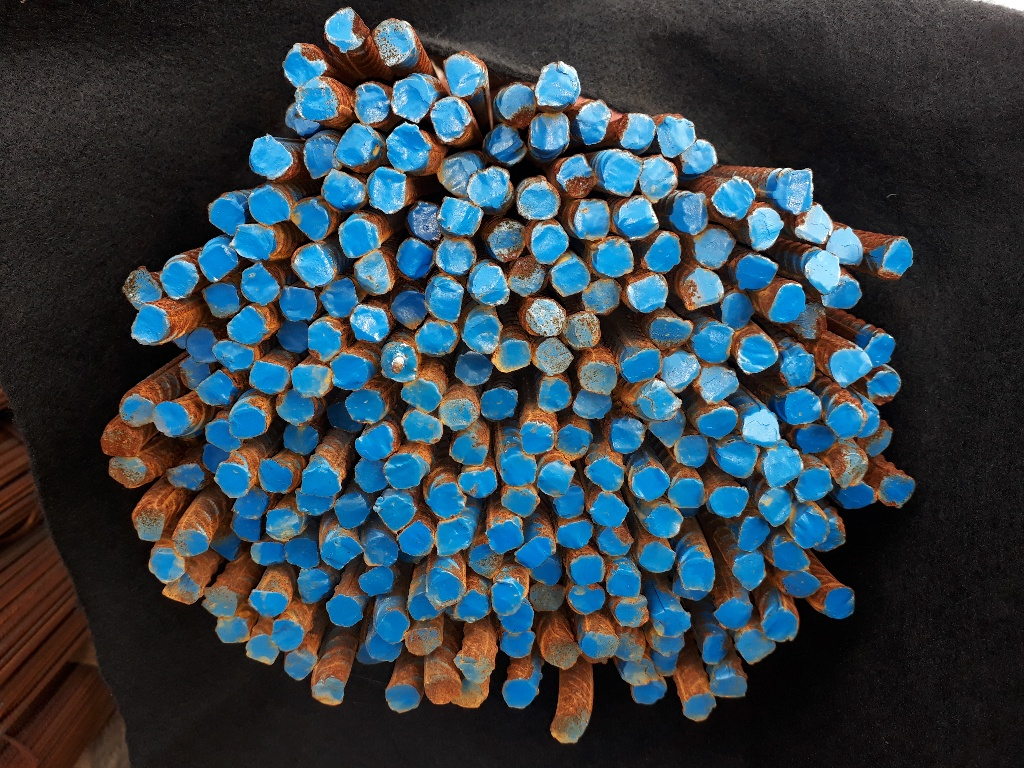dipstick: (386, 124, 429, 172), (536, 62, 581, 107), (557, 154, 598, 200), (391, 75, 430, 122), (284, 43, 326, 86), (375, 19, 413, 64), (368, 169, 406, 214), (294, 245, 334, 287), (249, 136, 292, 175), (338, 219, 381, 258), (433, 98, 471, 142), (444, 51, 482, 95), (437, 156, 477, 196), (713, 177, 753, 217), (530, 224, 569, 265), (337, 126, 379, 164), (472, 265, 510, 307), (440, 199, 483, 236), (777, 170, 813, 214), (325, 169, 364, 209), (462, 315, 502, 354), (526, 297, 564, 338), (604, 155, 641, 197), (693, 231, 735, 268), (829, 349, 871, 386), (426, 279, 462, 322), (641, 158, 677, 201), (747, 208, 783, 251), (619, 199, 658, 238), (529, 113, 569, 151), (628, 275, 668, 313), (684, 268, 724, 306), (297, 81, 338, 118), (291, 200, 328, 241), (516, 182, 558, 218), (241, 265, 279, 304), (533, 339, 573, 376), (642, 384, 682, 421), (490, 220, 526, 261), (326, 8, 361, 50), (354, 83, 389, 125), (510, 257, 545, 299), (643, 234, 681, 272), (700, 367, 738, 405), (737, 336, 776, 373), (717, 442, 758, 477), (357, 253, 391, 295), (649, 317, 692, 350), (131, 306, 169, 343), (489, 127, 526, 165), (595, 240, 633, 277), (695, 327, 733, 364), (436, 238, 475, 274), (663, 353, 699, 392), (468, 170, 508, 205), (576, 199, 610, 240), (233, 226, 275, 259), (287, 364, 329, 397), (230, 307, 267, 344), (251, 187, 289, 223), (381, 343, 417, 381), (275, 391, 315, 425), (375, 497, 415, 531), (737, 256, 777, 290), (622, 348, 662, 382), (305, 136, 338, 177), (675, 192, 708, 233), (321, 537, 364, 568), (398, 240, 434, 277), (149, 547, 185, 584), (658, 118, 694, 155), (199, 246, 237, 281), (162, 262, 197, 300), (620, 112, 655, 150), (806, 254, 841, 292), (537, 462, 575, 497), (321, 280, 357, 316), (795, 467, 831, 503), (124, 269, 161, 304), (230, 404, 267, 439), (769, 285, 804, 322), (556, 425, 593, 460), (765, 450, 802, 485), (551, 260, 589, 294), (583, 280, 621, 314), (796, 206, 830, 244), (580, 100, 610, 143), (250, 362, 290, 394), (280, 287, 316, 322), (785, 389, 820, 425), (351, 307, 388, 341), (498, 86, 535, 120), (829, 228, 863, 265), (878, 476, 917, 508), (102, 426, 142, 457), (611, 419, 646, 454), (356, 426, 392, 460), (308, 322, 341, 359), (438, 519, 471, 556), (567, 312, 600, 349), (580, 362, 617, 395), (632, 467, 669, 500), (591, 495, 628, 528), (737, 631, 775, 663), (409, 202, 440, 241), (795, 509, 826, 548), (207, 198, 242, 232), (430, 483, 464, 518), (391, 293, 426, 327), (745, 411, 779, 446), (331, 357, 367, 390), (782, 352, 815, 388), (455, 354, 492, 386), (107, 458, 146, 488), (502, 488, 541, 518), (698, 408, 738, 437), (266, 508, 301, 541), (401, 522, 434, 557), (723, 294, 755, 330), (649, 416, 685, 448), (829, 404, 865, 436), (494, 342, 531, 373), (479, 387, 516, 418), (402, 382, 440, 412), (587, 461, 625, 491), (711, 487, 749, 517), (760, 489, 790, 527), (883, 239, 913, 277), (403, 414, 442, 443), (418, 324, 457, 353), (215, 464, 249, 497), (429, 572, 463, 605), (537, 378, 571, 411), (205, 419, 240, 451), (258, 459, 293, 491), (796, 304, 828, 339), (386, 457, 422, 488), (734, 554, 765, 590), (772, 542, 809, 572), (825, 584, 854, 622), (795, 425, 833, 454), (833, 453, 866, 486), (119, 395, 153, 427), (154, 403, 188, 435), (364, 536, 398, 568), (452, 434, 486, 466), (647, 506, 681, 538), (868, 370, 900, 404), (203, 285, 238, 316), (518, 537, 553, 568), (681, 141, 716, 172), (502, 455, 537, 486), (613, 596, 648, 627), (213, 342, 253, 369), (441, 400, 477, 430), (653, 609, 691, 637), (336, 496, 369, 528), (297, 569, 328, 603), (327, 596, 361, 627), (454, 655, 493, 682), (574, 393, 613, 420), (284, 424, 319, 454), (348, 391, 383, 421), (641, 543, 676, 573), (188, 328, 217, 364), (556, 521, 593, 549), (568, 586, 605, 614), (714, 598, 751, 626), (302, 468, 340, 495), (823, 282, 861, 309), (521, 422, 553, 454), (676, 435, 709, 466), (360, 566, 394, 596), (489, 522, 523, 552), (569, 555, 603, 585), (763, 610, 797, 640), (738, 519, 768, 553), (385, 684, 421, 712), (459, 469, 496, 496), (198, 373, 231, 403), (134, 507, 164, 540), (326, 404, 360, 433), (285, 539, 319, 568), (283, 651, 317, 680), (490, 581, 519, 615), (554, 485, 583, 519), (598, 528, 632, 557), (503, 680, 538, 708), (166, 463, 203, 489), (405, 627, 442, 653), (581, 631, 618, 657), (702, 633, 733, 664), (865, 334, 895, 366), (469, 547, 502, 576), (682, 560, 715, 589), (606, 570, 640, 598), (783, 573, 821, 598), (545, 642, 580, 669), (204, 588, 236, 617), (233, 489, 267, 516), (671, 480, 705, 507), (355, 462, 385, 492), (163, 578, 199, 603), (503, 602, 533, 632), (273, 621, 304, 650), (838, 486, 877, 509), (246, 637, 278, 665), (530, 585, 564, 611), (279, 323, 308, 353), (251, 591, 287, 615), (456, 593, 488, 620), (174, 530, 207, 556), (623, 659, 656, 685), (425, 678, 459, 703), (379, 612, 408, 641), (288, 105, 316, 135), (683, 695, 715, 721), (501, 633, 534, 658), (868, 422, 892, 456), (313, 679, 344, 705), (409, 595, 442, 619), (531, 559, 560, 585), (250, 543, 284, 565), (369, 637, 400, 661), (180, 361, 208, 387), (211, 532, 239, 558), (216, 620, 249, 642), (549, 721, 582, 743), (459, 681, 486, 707), (617, 635, 645, 660), (713, 677, 746, 698), (297, 495, 333, 514), (633, 683, 664, 704), (233, 518, 260, 542), (827, 516, 844, 551), (672, 583, 705, 600), (654, 637, 685, 655), (655, 653, 678, 677), (203, 444, 222, 473), (863, 405, 879, 437)
